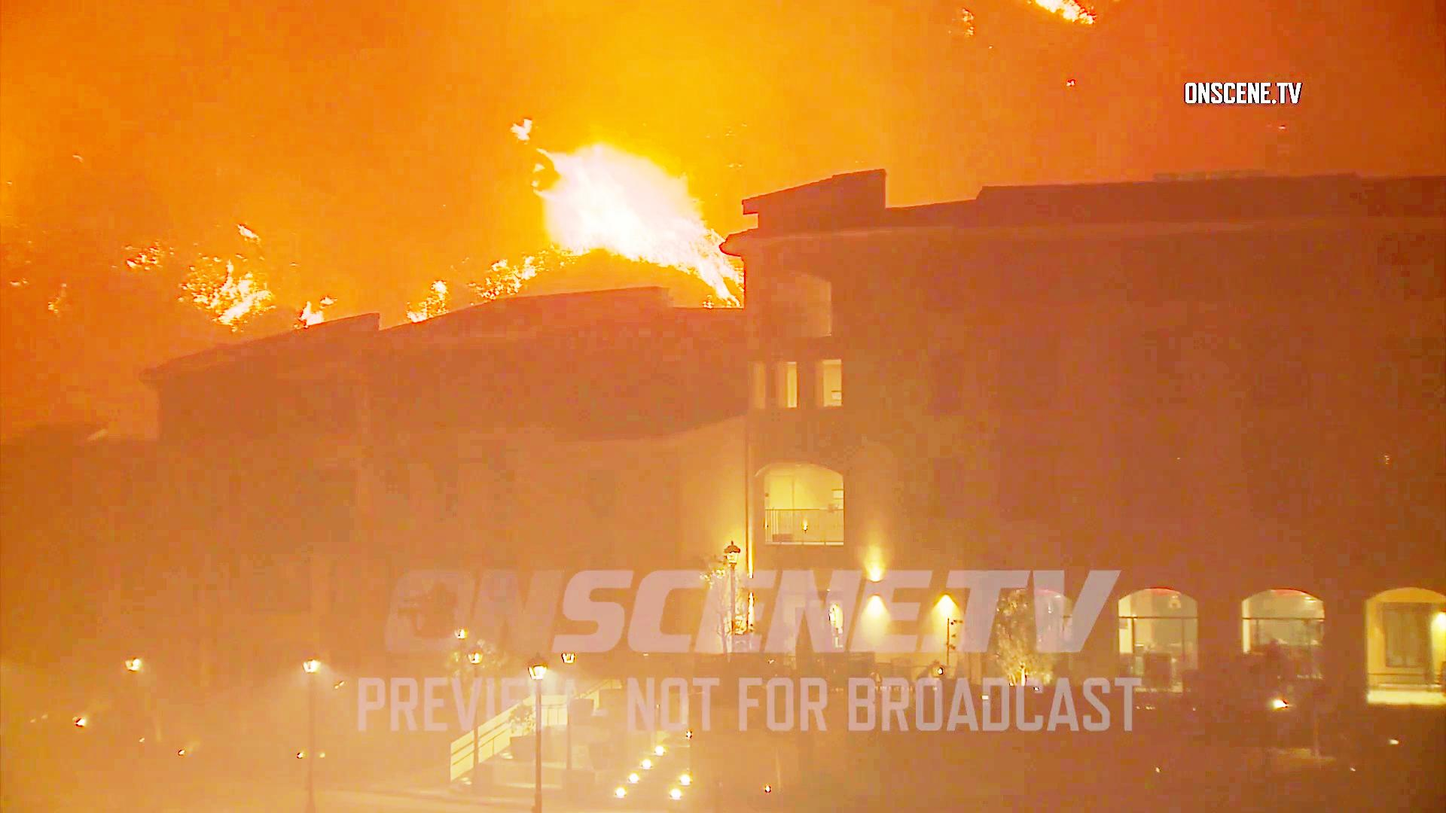fire: (490, 102, 737, 300), (175, 251, 328, 332)
